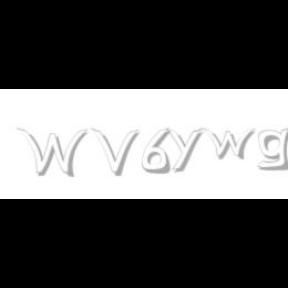6: (142, 128, 170, 176)
V: (91, 128, 139, 176)
W: (16, 128, 88, 178)
w: (200, 128, 260, 160)
y: (166, 128, 206, 172)
